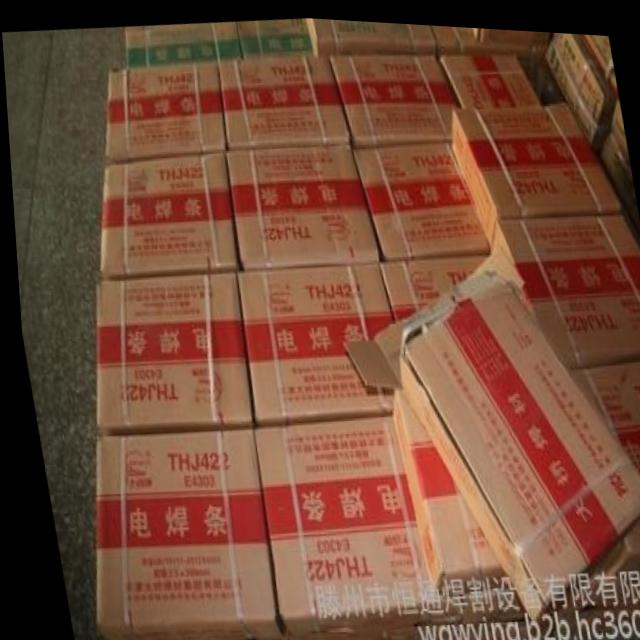box: (336, 233, 640, 619), (249, 409, 452, 640), (85, 424, 281, 640), (234, 255, 390, 424), (90, 268, 249, 433), (449, 91, 619, 240), (488, 204, 640, 364), (387, 384, 502, 593), (224, 143, 378, 268), (95, 148, 237, 278), (351, 135, 487, 255), (217, 51, 351, 148), (103, 58, 225, 159), (329, 51, 458, 143), (567, 351, 640, 471), (546, 26, 618, 143), (374, 249, 487, 319), (590, 90, 640, 243), (431, 20, 549, 82), (439, 47, 539, 104), (124, 18, 242, 65), (305, 15, 437, 54), (584, 505, 640, 580), (235, 16, 314, 56), (581, 27, 618, 90)
